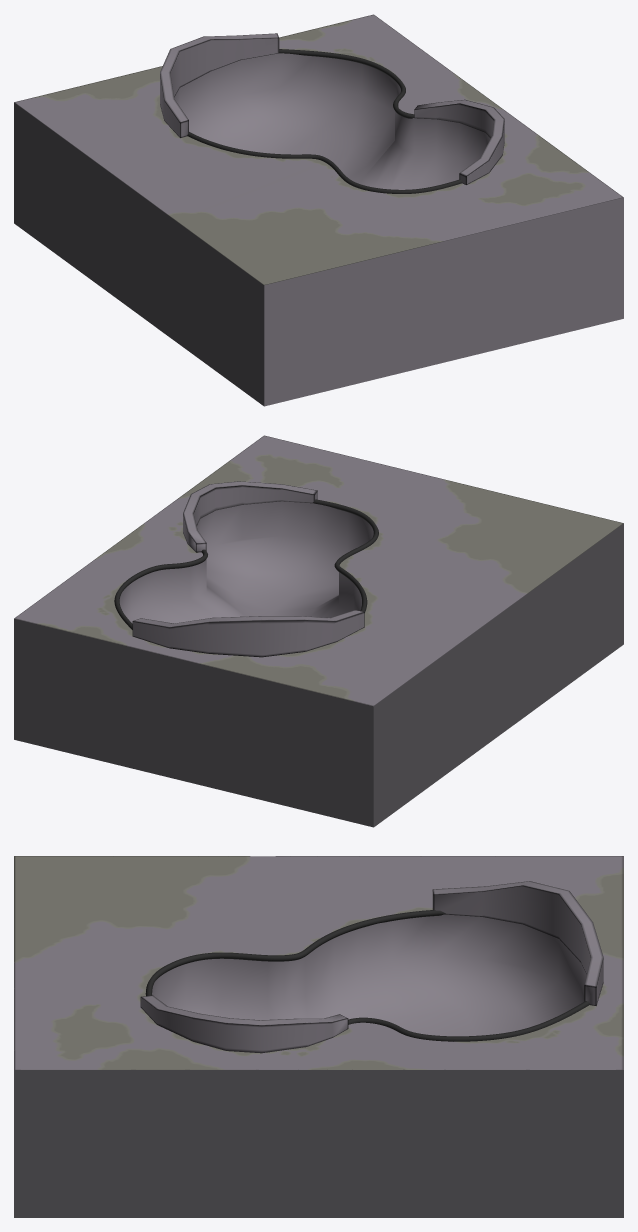
The model's file is skateparkl.fbx.
3 renders of one model, top to bottom at view 1: azimuth 30°, elevation 25°; view 2: azimuth 150°, elevation 25°; view 3: azimuth 270°, elevation 25°, orthographic. The views are drawn at different scales.
Parts seen in each view (by area): view 1: NurbsPath.026; view 2: NurbsPath.026; view 3: NurbsPath.026.
Part boxes in pixels (box(x1,y1,x2,y2)): NurbsPath.026: box(14, 14, 623, 406); NurbsPath.026: box(14, 435, 623, 827); NurbsPath.026: box(14, 856, 623, 1217).
Size of the model in its own units: 2561 by 1075 by 3084.
